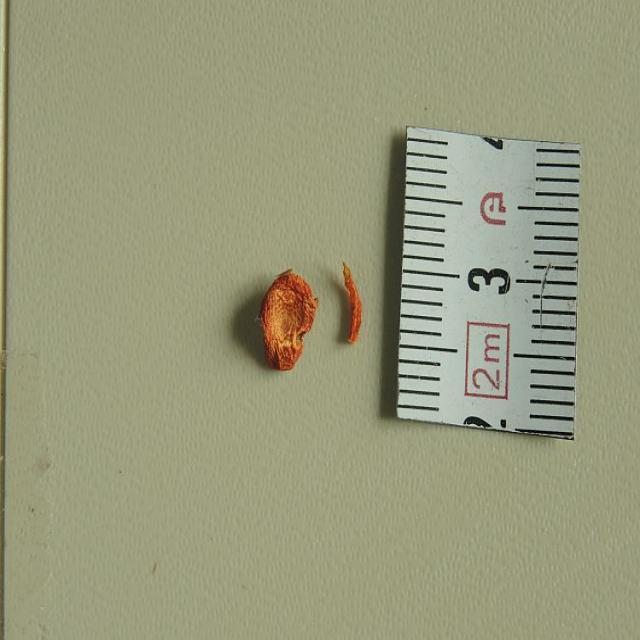Cantharellus cibarius: (260, 268, 317, 372)
